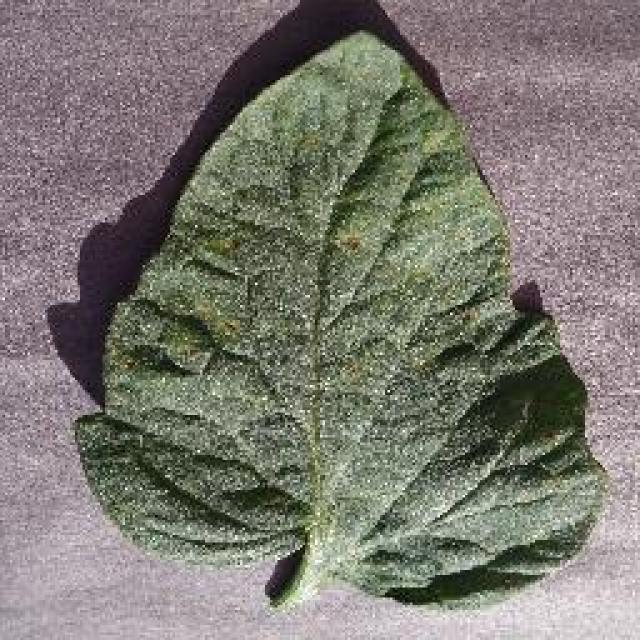Tomato___Target_Spot: (75, 30, 608, 610)
